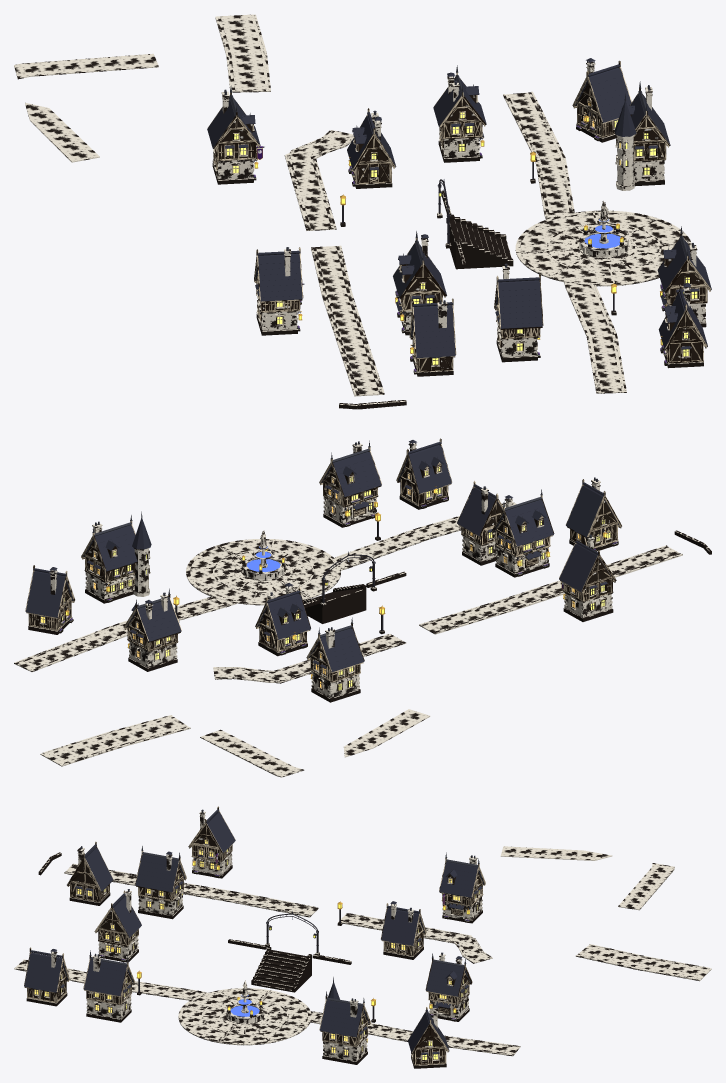
Rendered from ILHA3_05_VILLAGE_4ec5f0.fbx.
3 renders of one model, top to bottom at view 1: azimuth 30°, elevation 25°; view 2: azimuth 150°, elevation 25°; view 3: azimuth 270°, elevation 25°, orthographic. The views are drawn at different scales.
Parts seen in each view (by area): view 1: SG_Vil_Streets_P2__Stone_SG_Floor, SG_Vil_Plaza__Stone_Paving_SG, SG_Vil_Houses_P2W__Roof_SG_Slate, SG_Vil_Streets_P1__Stone_SG_Floor, SG_Vil_Houses_P1W__Roof_SG_Slate, SG_Vil_Streets_P3__Stone_SGVilCobble, SG_Vil_Houses_P1E__Roof_SG_Slate, SG_Vil_Houses_P1E__Wood_SG_Dark, SG_Vil_Streets_P2__Stone_SGVilCobble, SG_Vil_Houses_P1W__Wood_SG_Dark, SG_Vil_Houses_P2W__Wood_SG_Dark, SG_Vil_Houses_P2E__Wood_SG_Dark (+19 smaller); view 2: SG_Vil_Streets_P2__Stone_SG_Floor, SG_Vil_Plaza__Stone_Paving_SG, SG_Vil_Houses_P1E__Roof_SG_Slate, SG_Vil_Houses_P1W__Roof_SG_Slate, SG_Vil_Houses_P2W__Roof_SG_Slate, SG_Vil_Houses_P2W__Wood_SG_Dark, SG_Vil_Houses_P1E__Wood_SG_Dark, SG_Vil_Streets_P3__Stone_SGVilCobble, SG_Vil_Houses_P1W__Wood_SG_Dark, SG_Vil_Streets_P1__Stone_SG_Floor, SG_Vil_Houses_P2E__Roof_SG_Slate, SG_Vil_Streets_P2__Stone_SGVilCobble (+23 smaller); view 3: SG_Vil_Plaza__Stone_Paving_SG, SG_Vil_Streets_P2__Stone_SG_Floor, SG_Vil_Houses_P1W__Roof_SG_Slate, SG_Vil_Houses_P1E__Roof_SG_Slate, SG_Vil_Houses_P2W__Roof_SG_Slate, SG_Vil_Houses_P2W__Wood_SG_Dark, SG_Vil_Houses_P2E__Roof_SG_Slate, SG_Vil_Houses_P1E__Wood_SG_Dark, SG_Vil_Streets_P3__Stone_SGVilCobble, SG_Vil_Houses_P1W__Wood_SG_Dark, SG_Vil_Streets_P2__Stone_SGVilCobble, SG_Vil_Streets_P1__Stone_SG_Floor (+20 smaller).
Boxes of the visible parts, bbox=[...] form: SG_Vil_Streets_P2__Stone_SG_Floor: bbox=[220, 14, 379, 395]; SG_Vil_Plaza__Stone_Paving_SG: bbox=[515, 212, 691, 286]; SG_Vil_Houses_P2W__Roof_SG_Slate: bbox=[255, 234, 455, 358]; SG_Vil_Streets_P1__Stone_SG_Floor: bbox=[508, 92, 621, 392]; SG_Vil_Houses_P1W__Roof_SG_Slate: bbox=[495, 239, 711, 349]; SG_Vil_Streets_P3__Stone_SGVilCobble: bbox=[14, 53, 158, 162]; SG_Vil_Houses_P1E__Roof_SG_Slate: bbox=[433, 58, 670, 149]; SG_Vil_Houses_P1E__Wood_SG_Dark: bbox=[434, 60, 669, 175]; SG_Vil_Streets_P2__Stone_SGVilCobble: bbox=[215, 14, 384, 396]; SG_Vil_Houses_P1W__Wood_SG_Dark: bbox=[494, 233, 711, 363]; SG_Vil_Houses_P2W__Wood_SG_Dark: bbox=[254, 238, 456, 372]; SG_Vil_Houses_P2E__Wood_SG_Dark: bbox=[208, 92, 395, 184]; SG_Vil_Streets_P2__Stone_SG_Floor: bbox=[43, 547, 679, 764]; SG_Vil_Plaza__Stone_Paving_SG: bbox=[186, 540, 340, 605]; SG_Vil_Houses_P1E__Roof_SG_Slate: bbox=[25, 518, 181, 641]; SG_Vil_Houses_P1W__Roof_SG_Slate: bbox=[321, 440, 502, 536]; SG_Vil_Houses_P2W__Roof_SG_Slate: bbox=[493, 482, 621, 591]; SG_Vil_Houses_P2W__Wood_SG_Dark: bbox=[491, 479, 621, 611]; SG_Vil_Houses_P1E__Wood_SG_Dark: bbox=[25, 521, 181, 660]; SG_Vil_Streets_P3__Stone_SGVilCobble: bbox=[200, 709, 430, 777]; SG_Vil_Houses_P1W__Wood_SG_Dark: bbox=[319, 438, 502, 554]; SG_Vil_Streets_P1__Stone_SG_Floor: bbox=[17, 503, 516, 669]; SG_Vil_Houses_P2E__Roof_SG_Slate: bbox=[257, 583, 364, 672]; SG_Vil_Streets_P2__Stone_SGVilCobble: bbox=[40, 546, 682, 766]; SG_Vil_Plaza__Stone_Paving_SG: bbox=[178, 990, 310, 1045]; SG_Vil_Streets_P2__Stone_SG_Floor: bbox=[66, 865, 710, 978]; SG_Vil_Houses_P1W__Roof_SG_Slate: bbox=[24, 893, 141, 996]; SG_Vil_Houses_P1E__Roof_SG_Slate: bbox=[319, 956, 470, 1054]; SG_Vil_Houses_P2W__Roof_SG_Slate: bbox=[67, 809, 235, 892]; SG_Vil_Houses_P2W__Wood_SG_Dark: bbox=[67, 806, 235, 910]; SG_Vil_Houses_P2E__Roof_SG_Slate: bbox=[381, 862, 484, 945]; SG_Vil_Houses_P1E__Wood_SG_Dark: bbox=[319, 958, 472, 1065]; SG_Vil_Streets_P3__Stone_SGVilCobble: bbox=[500, 846, 674, 910]; SG_Vil_Houses_P1W__Wood_SG_Dark: bbox=[24, 890, 141, 1013]; SG_Vil_Streets_P2__Stone_SGVilCobble: bbox=[65, 864, 711, 981]; SG_Vil_Streets_P1__Stone_SG_Floor: bbox=[16, 961, 518, 1053].
Bounding box in the file's own units: 180 × 35.03 × 272.
15 materials, 3 textured.
